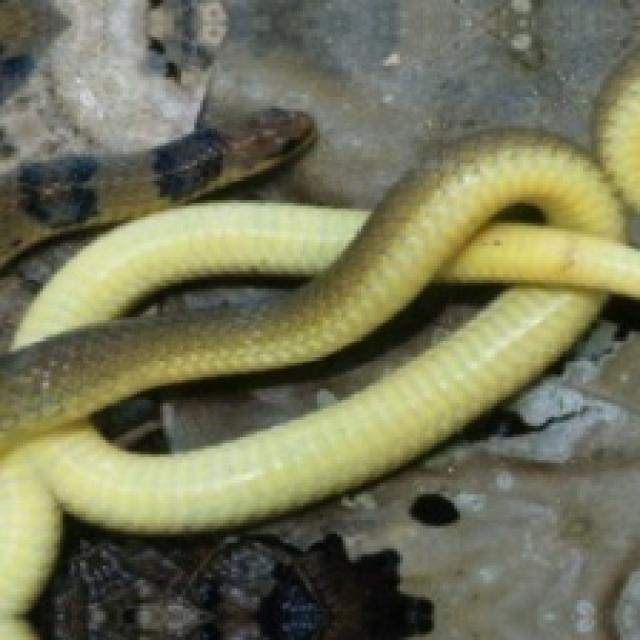luzon dwarf snake: (37, 320, 637, 637), (163, 289, 489, 446)
